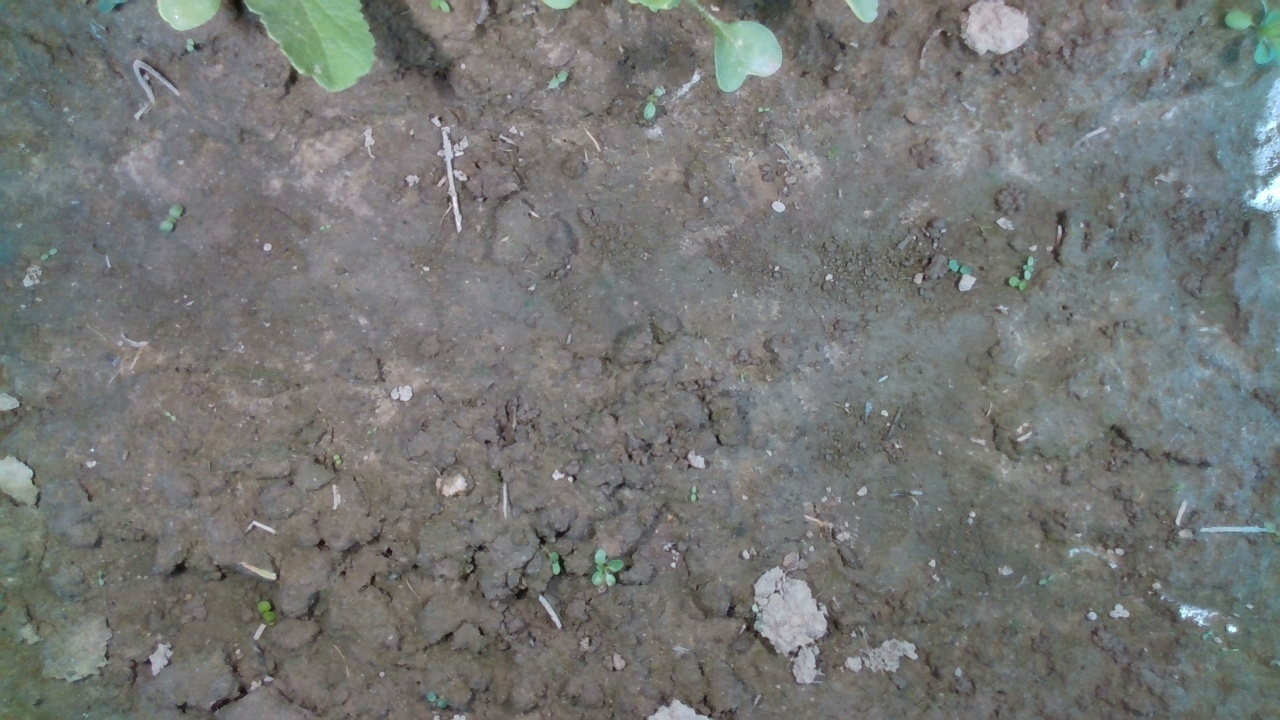weed: (592, 546, 621, 587), (154, 198, 178, 235), (946, 255, 976, 280), (1138, 45, 1158, 72), (547, 549, 565, 576), (1035, 568, 1054, 588)
